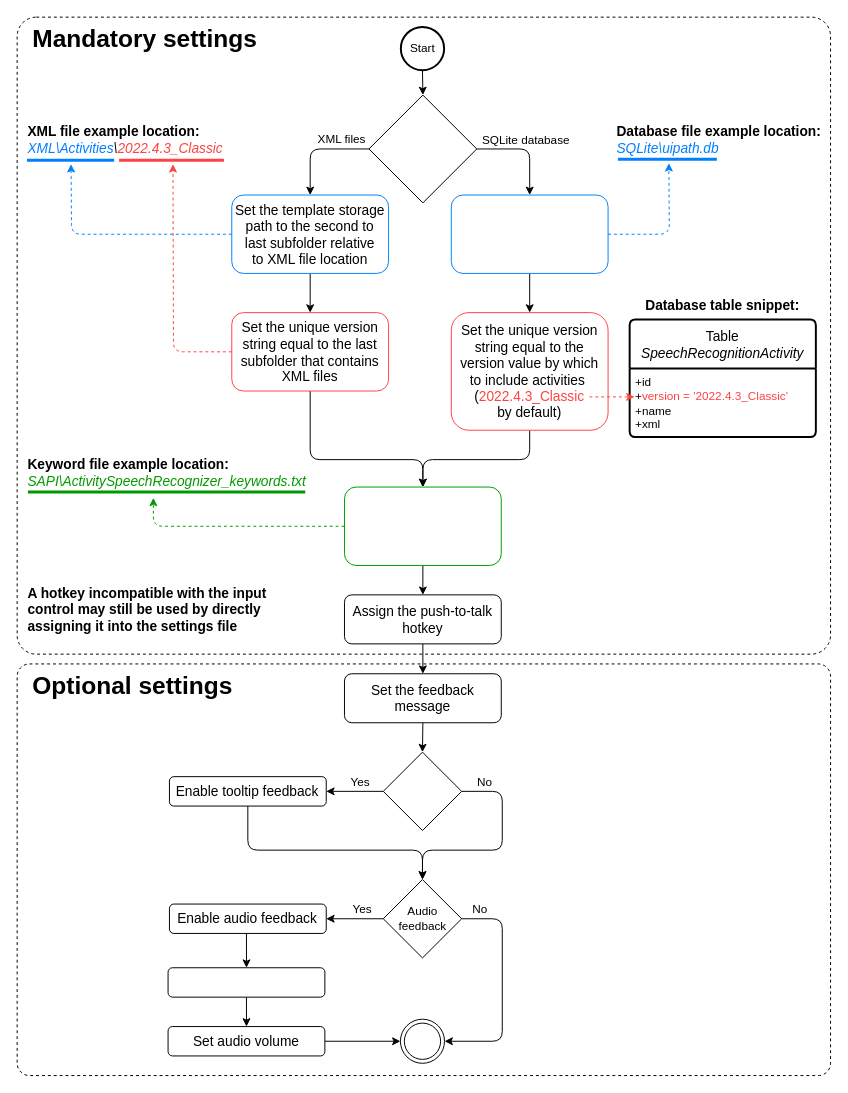
Image size: 848x1093. Some labels were removed from this diagram. The shapes that lost their labels are listed below. From the top down, each one's centre as x and y in pixels, then its label:
At (x=422, y=148): "Template storage type".
At (x=529, y=233): "Set the template storage path to the SQLite database file".
At (x=422, y=525): "Set the keyword file location to a text file containing keywords to recognize".
At (x=422, y=791): "Tooltip feedback".
At (x=246, y=982): "Select audio voice".
At (x=422, y=1040): "End".
